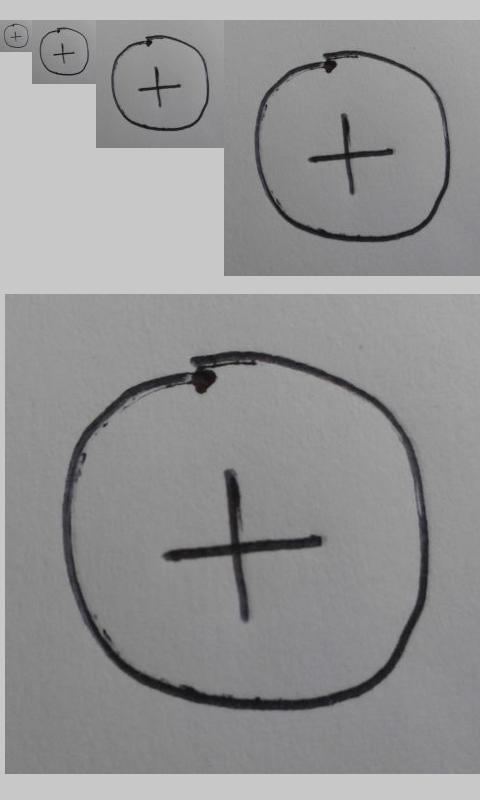button: (58, 347, 431, 712), (254, 49, 452, 243), (110, 34, 210, 132), (39, 27, 90, 76), (3, 23, 29, 49)
